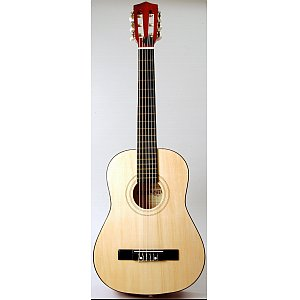guitar: (93, 1, 206, 297)
